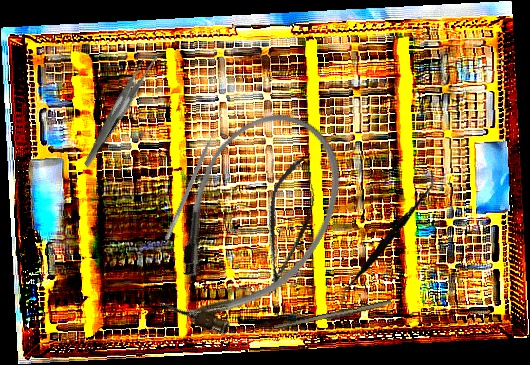Cannula: (132, 88, 370, 360)
Dressing Forceps: (54, 48, 183, 168)
Micro Scissor: (251, 153, 324, 301)
Scalpel Handle: (273, 297, 393, 334)
Spatula Surgical: (338, 164, 436, 314), (164, 124, 222, 244)
